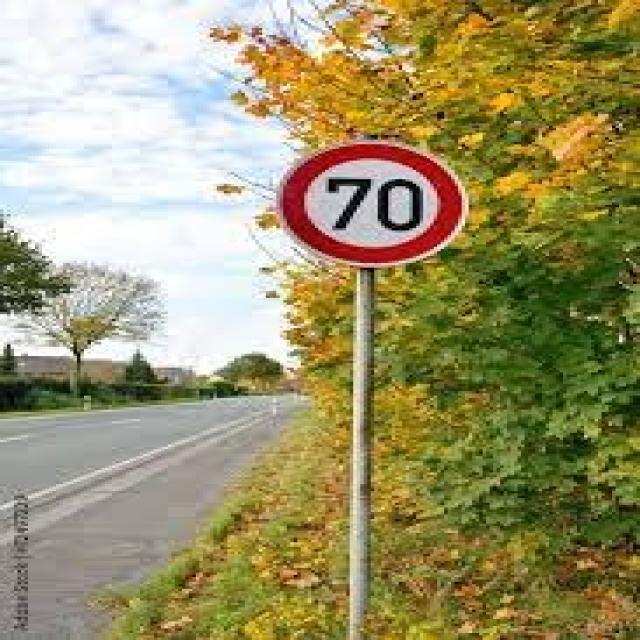speed_limit_70: (271, 140, 474, 268)
